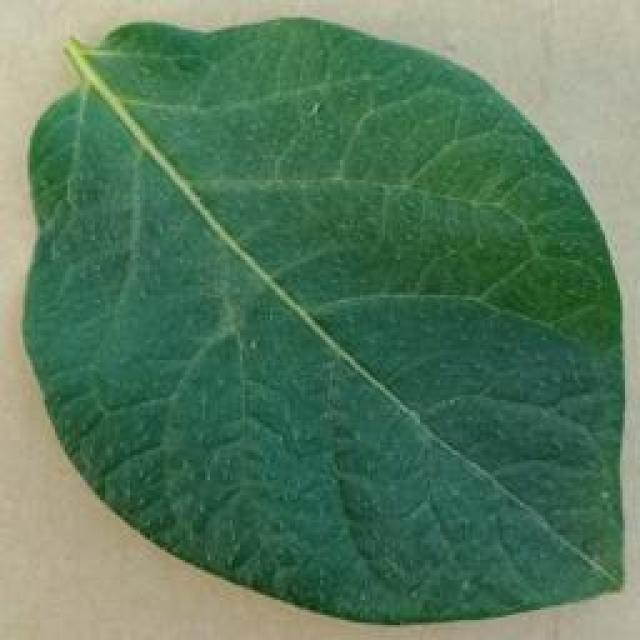Potato_Healthy: (19, 18, 618, 622)
